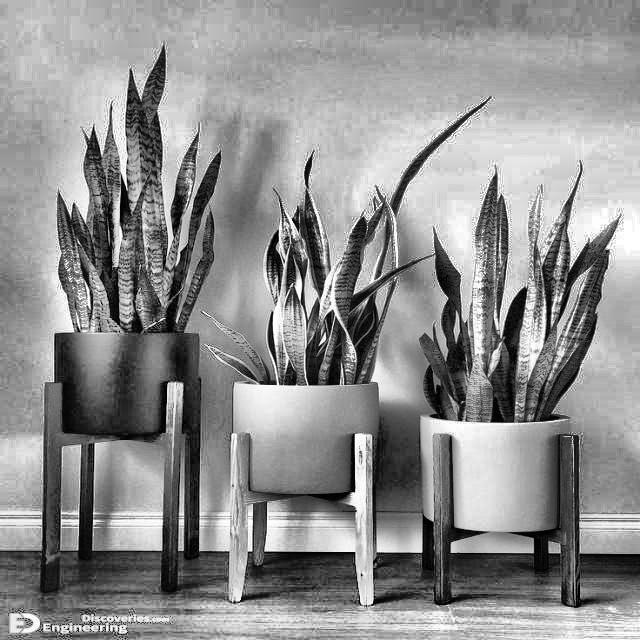plants: (200, 97, 484, 386), (408, 164, 631, 422), (51, 36, 230, 334)
